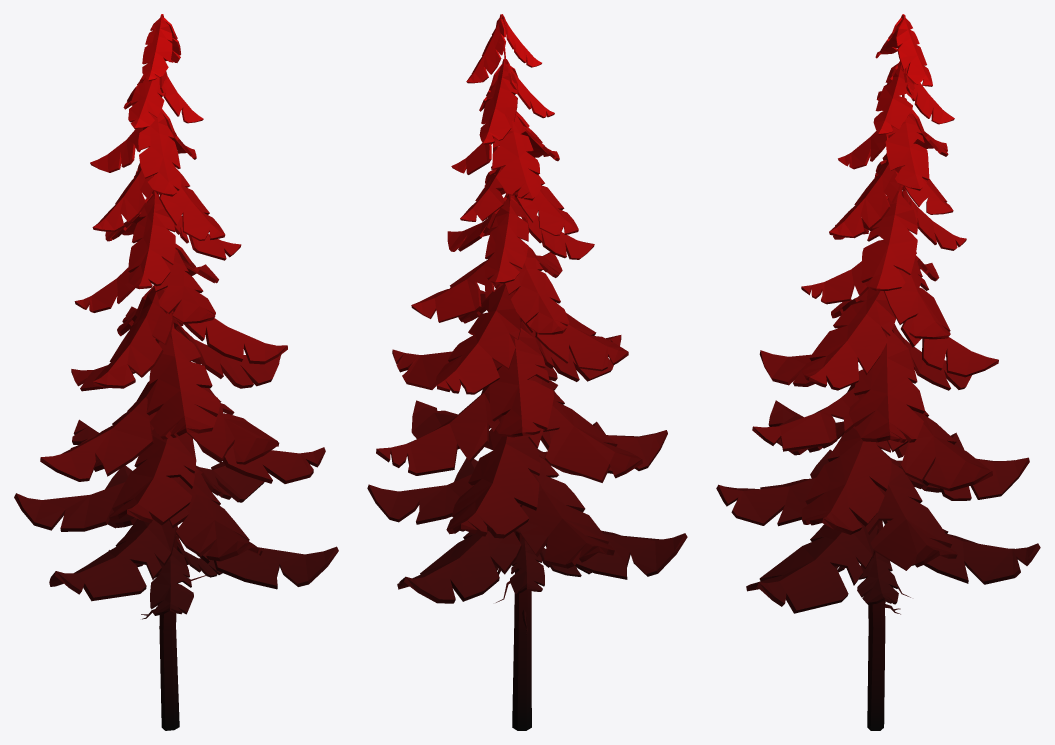
Rendered from TreeSpruce05.fbx.
3 views of the same model, side by side, from view 1: azimuth 30°, elevation 25°; view 2: azimuth 150°, elevation 25°; view 3: azimuth 270°, elevation 25° (orthographic). The views are drawn at different scales.
Visible parts, largest first — view 1: TreeSpruce05_LOD0; view 2: TreeSpruce05_LOD0; view 3: TreeSpruce05_LOD0.
Boxes of the visible parts, x1,y1,x2,y2 form: TreeSpruce05_LOD0: (14, 14, 338, 730); TreeSpruce05_LOD0: (367, 14, 687, 730); TreeSpruce05_LOD0: (716, 14, 1040, 730).
Size of what is drawn, in the model's own units: 135 by 337 by 139.
